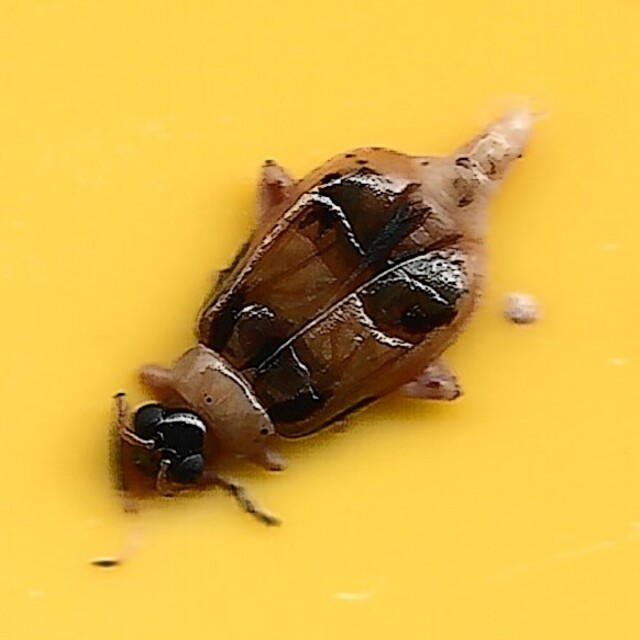Coleoptera: (110, 113, 530, 527)
